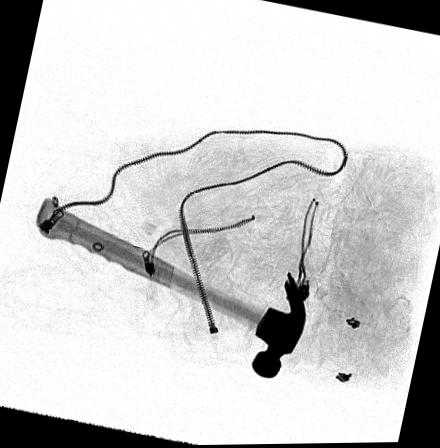Hammer: (35, 198, 305, 380)
